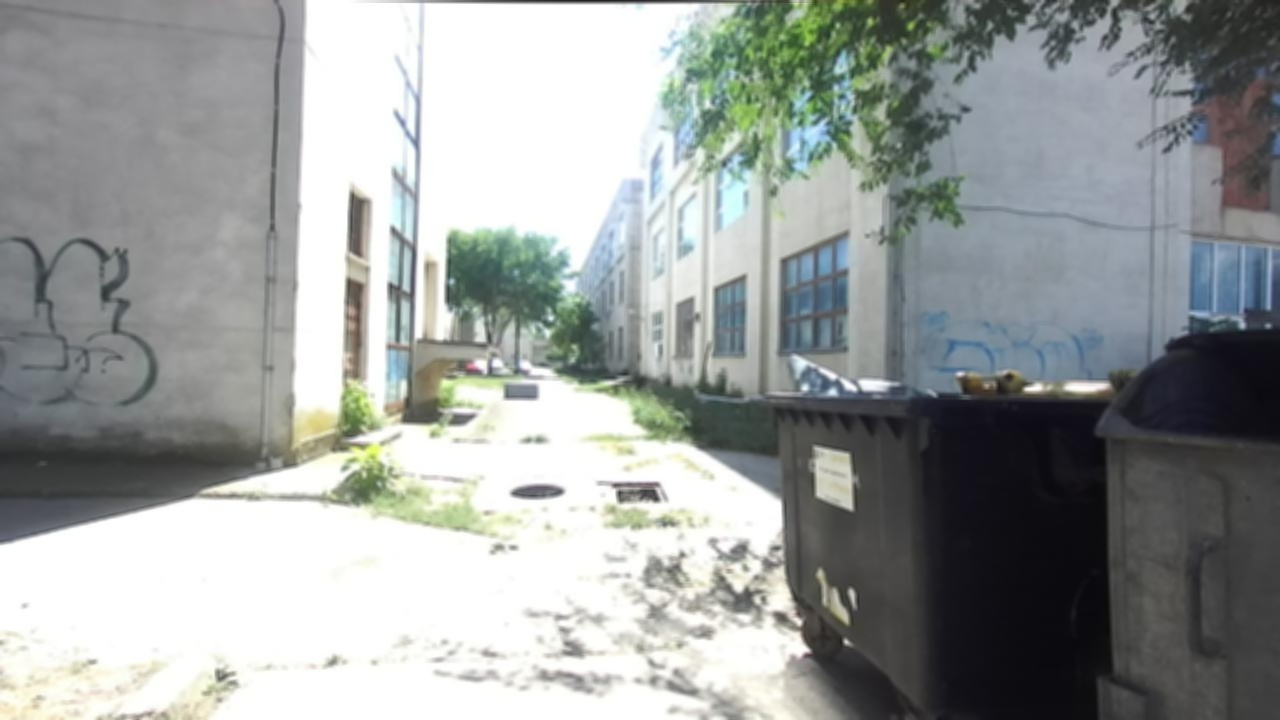drain: (613, 478, 673, 507), (508, 477, 570, 505)
